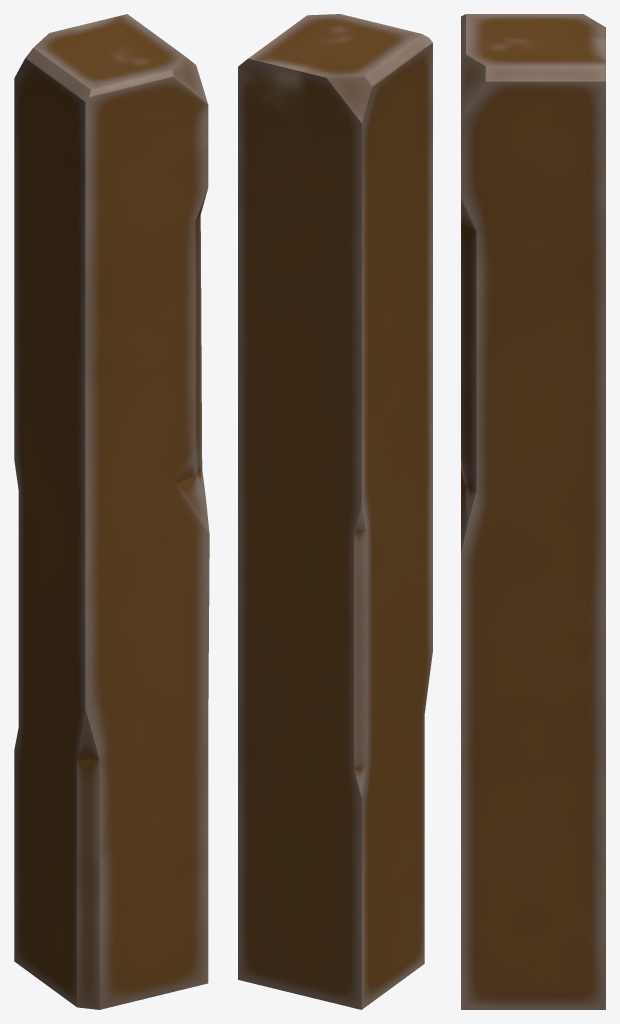
File: Post.fbx
The picture shows the model from 3 angles, left to right: view 1: azimuth 30°, elevation 25°; view 2: azimuth 150°, elevation 25°; view 3: azimuth 270°, elevation 25°; orthographic projection. The views are drawn at different scales.
Visible parts, largest first — view 1: railing.002; view 2: railing.002; view 3: railing.002.
Part boxes in pixels (x1=…): railing.002: x1=14, y1=14, x2=209, y2=1009; railing.002: x1=238, y1=14, x2=432, y2=1009; railing.002: x1=461, y1=14, x2=605, y2=1009.
Size of the model in its own units: 4.42 by 31.2 by 4.36.
